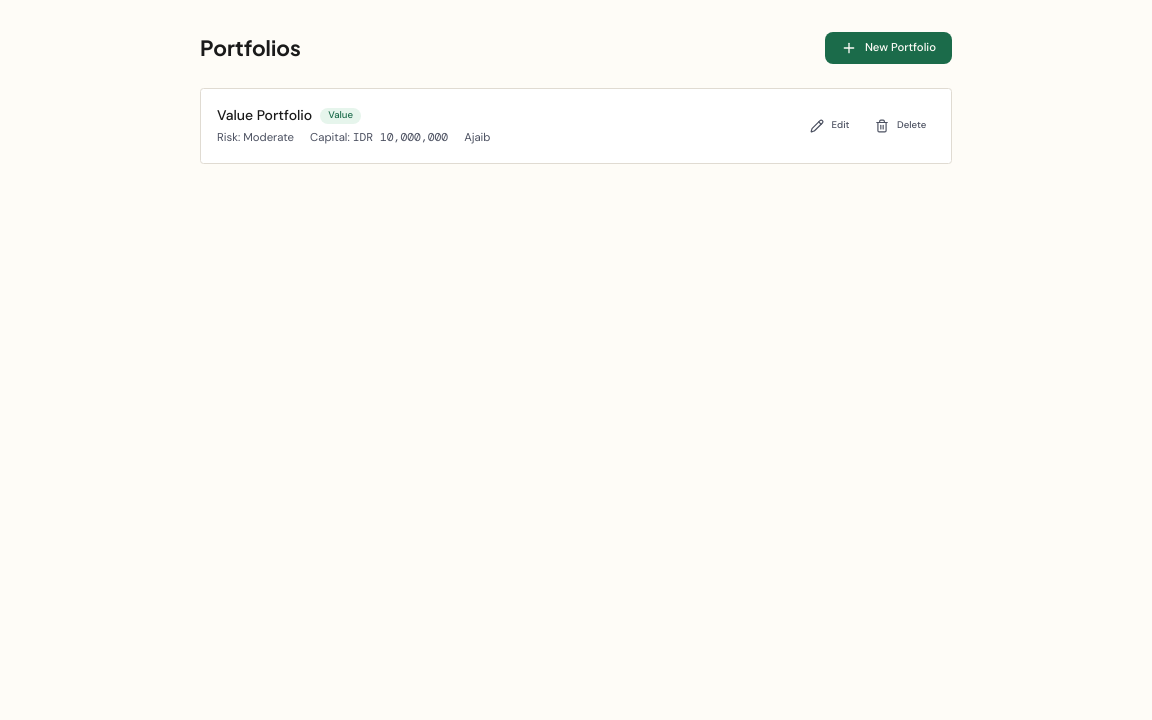
Test: PortfolioPage › State C: Portfolio list (portfolios exist) › shows confirm dialog on Delete click
Expected: the text "Value Portfolio" is shown, [217,105,312,126]
Click the button "Delete".
click(901, 126)  # box [866,115,935,137]
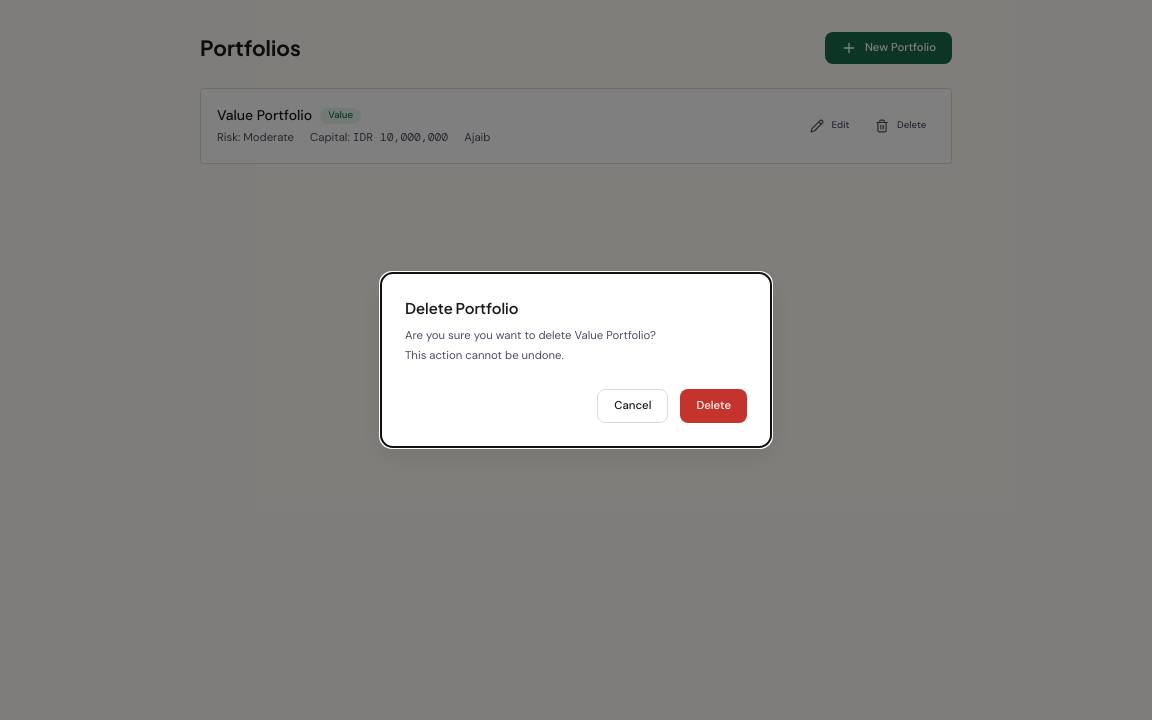
Expected: the dialog is shown, [380,272,772,448]
Expected: the text "Are you sure you want to delete Value Portfolio?" is shown, [405,328,656,343]
